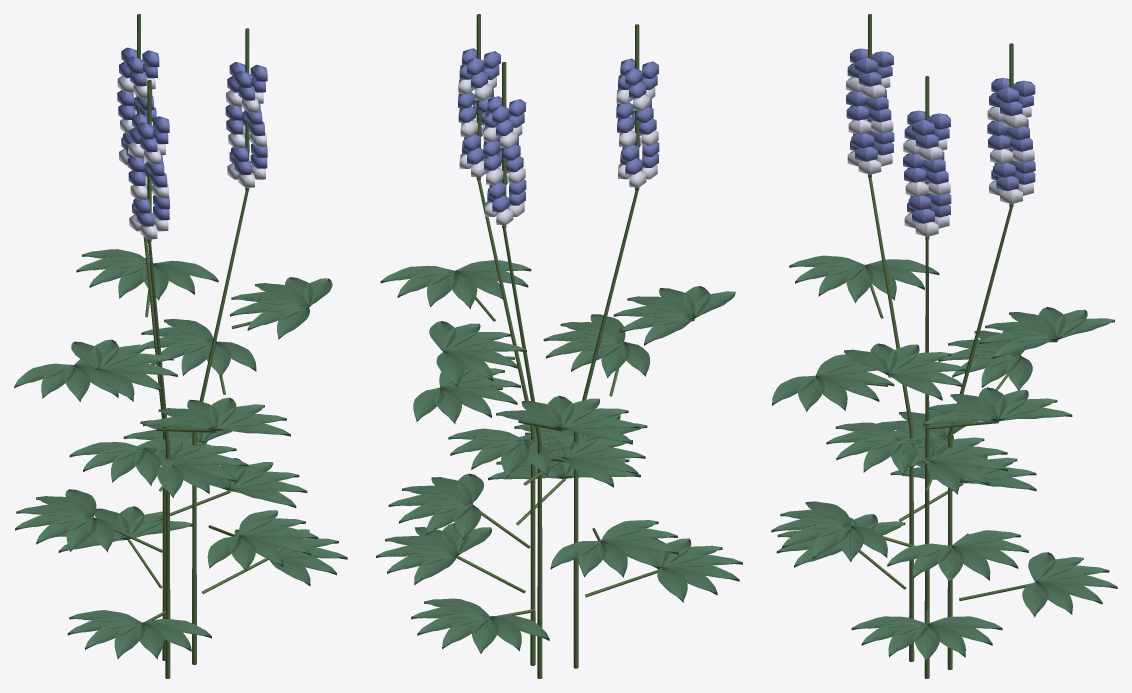
Rendered from chocho.glb.
3 views of the same model, side by side, from view 1: azimuth 30°, elevation 25°; view 2: azimuth 150°, elevation 25°; view 3: azimuth 270°, elevation 25° (orthographic). The views are drawn at different scales.
Visible parts, largest first — view 1: chocho; view 2: chocho; view 3: chocho.
Part boxes in pixels (x1=…): chocho: x1=14, y1=14, x2=347, y2=678; chocho: x1=376, y1=14, x2=742, y2=678; chocho: x1=771, y1=14, x2=1117, y2=678.
Size of the model in its own units: 0.6813 by 1.35 by 0.6759.
